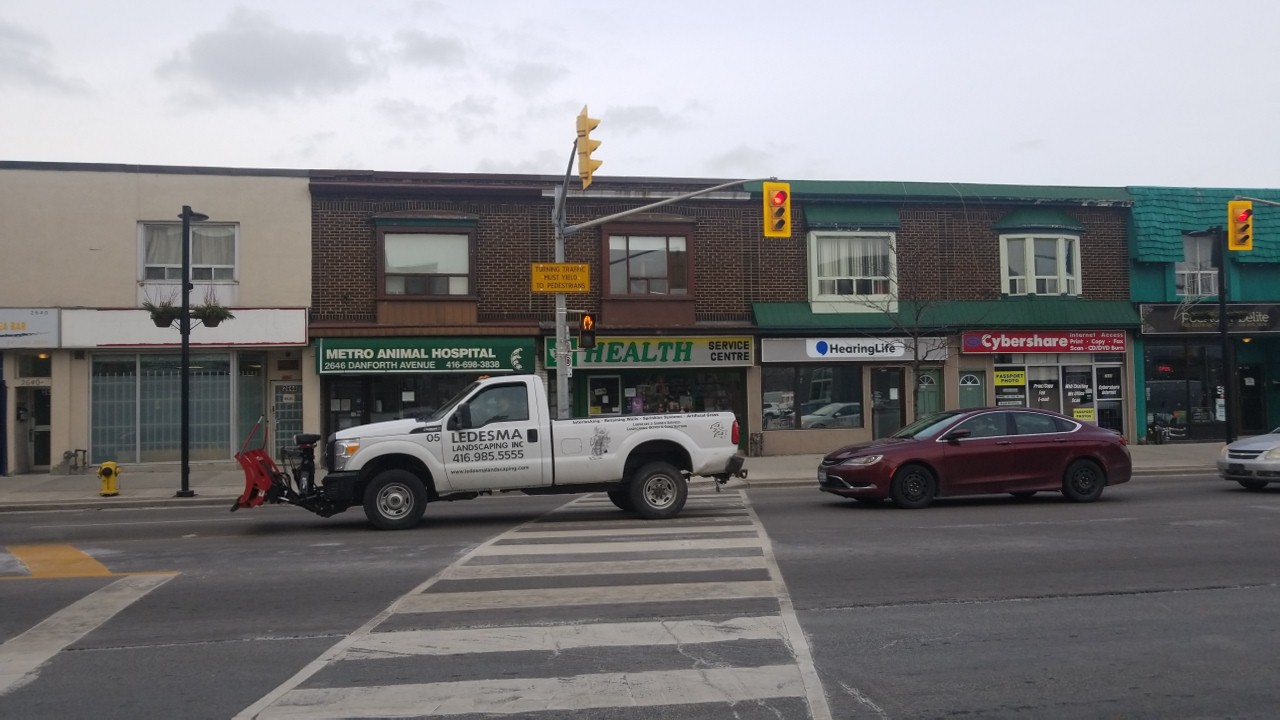light: (578, 310, 597, 349)
